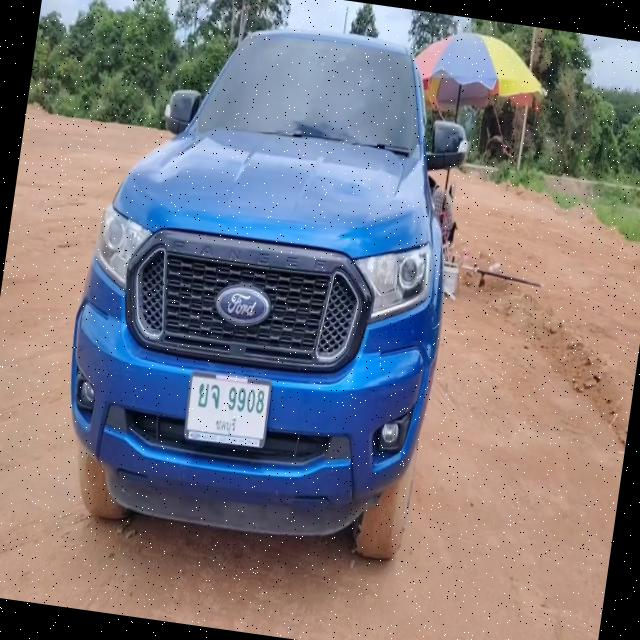Digit: (225, 382, 268, 417)
Licenseplate: (181, 368, 275, 454)
Provincename: (215, 415, 238, 437)
Thaichar: (195, 376, 222, 412)
